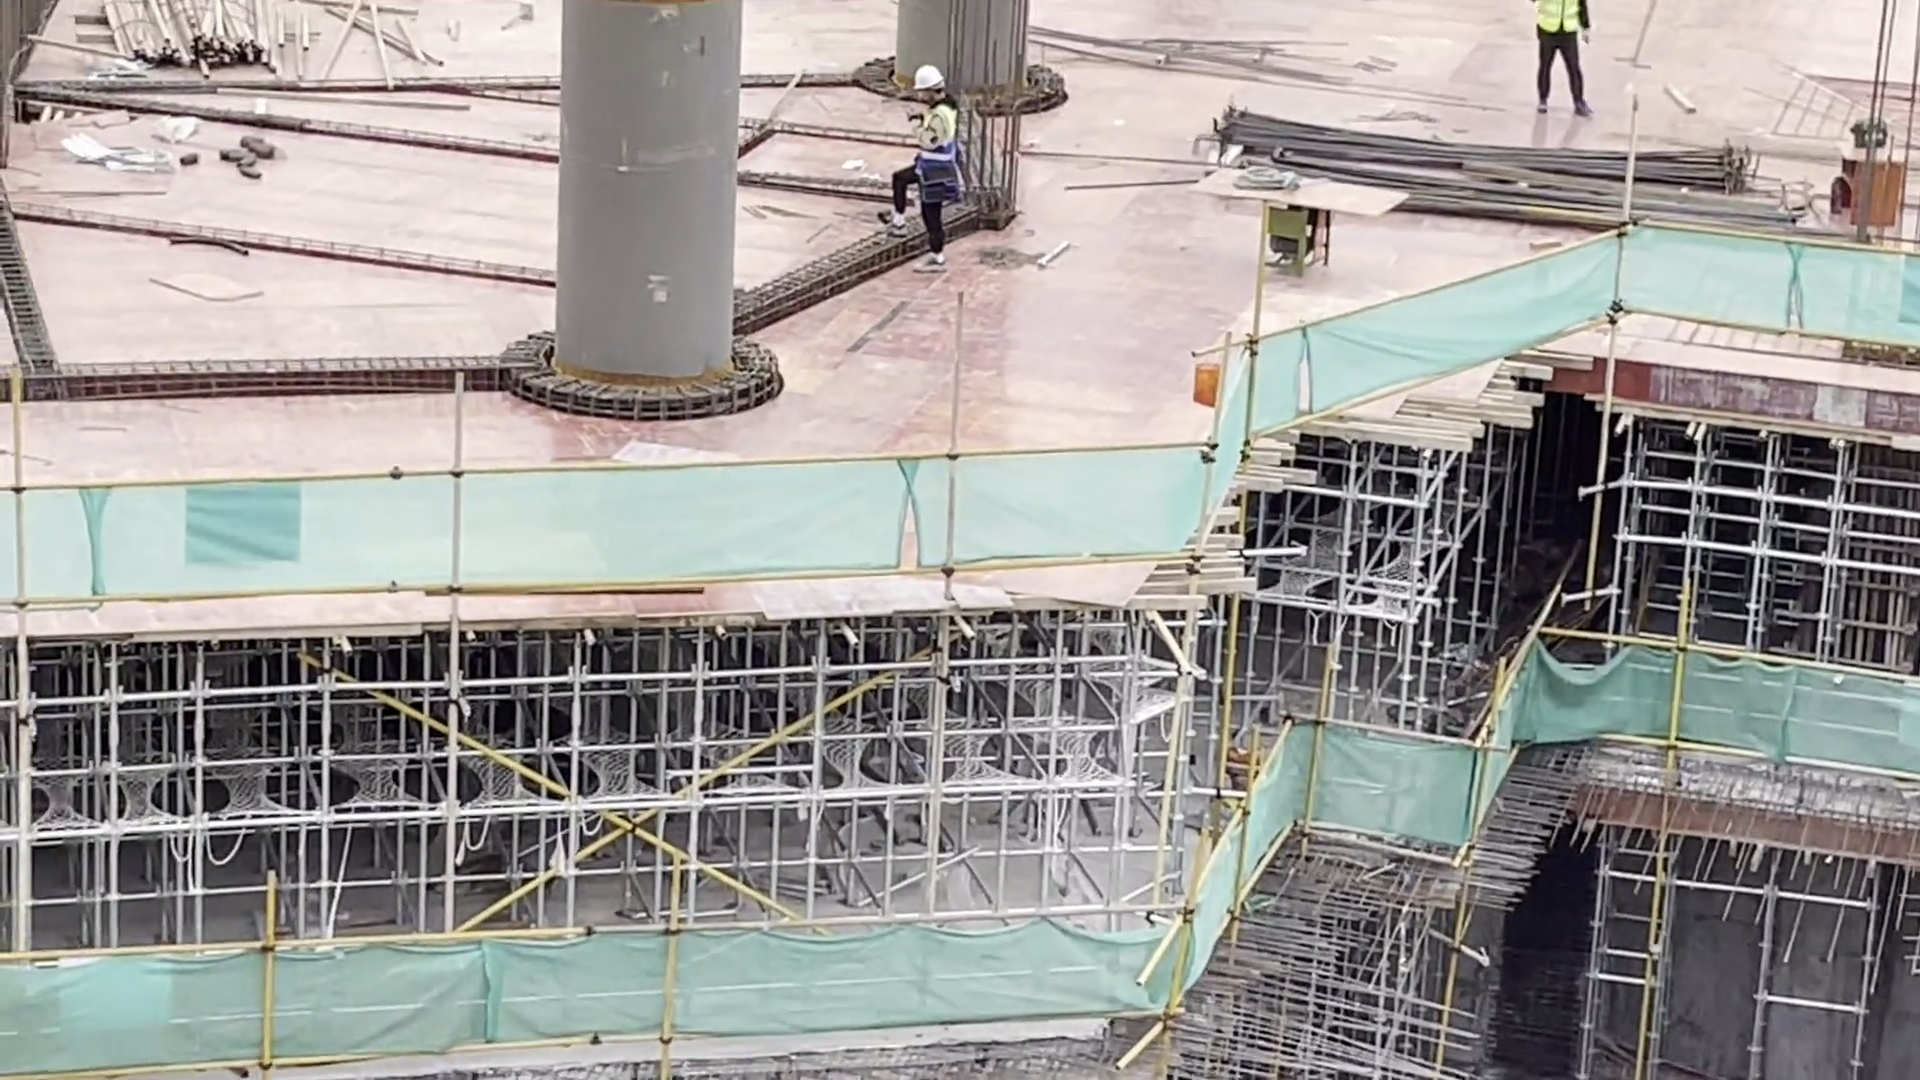helmet: (903, 64, 955, 92)
person: (886, 57, 971, 287), (1531, 2, 1601, 119)
rebar: (1223, 104, 1796, 228)
vest: (924, 113, 962, 174), (1537, 5, 1582, 33)
